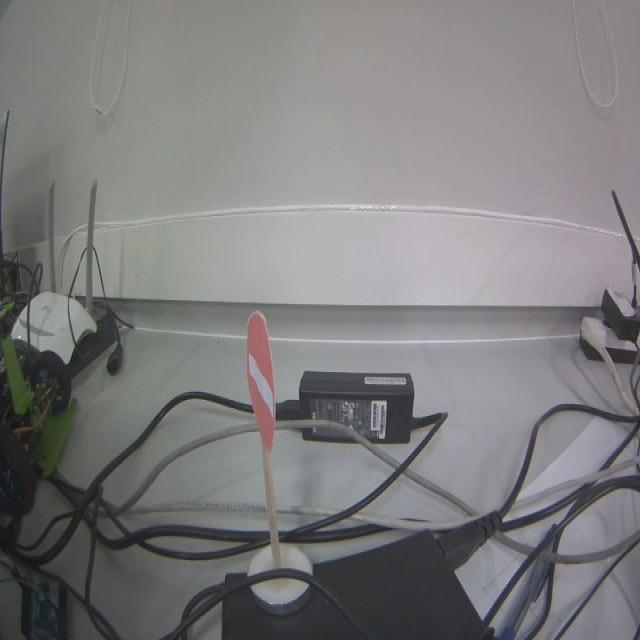Dilarang Masuk: (244, 311, 275, 452)
